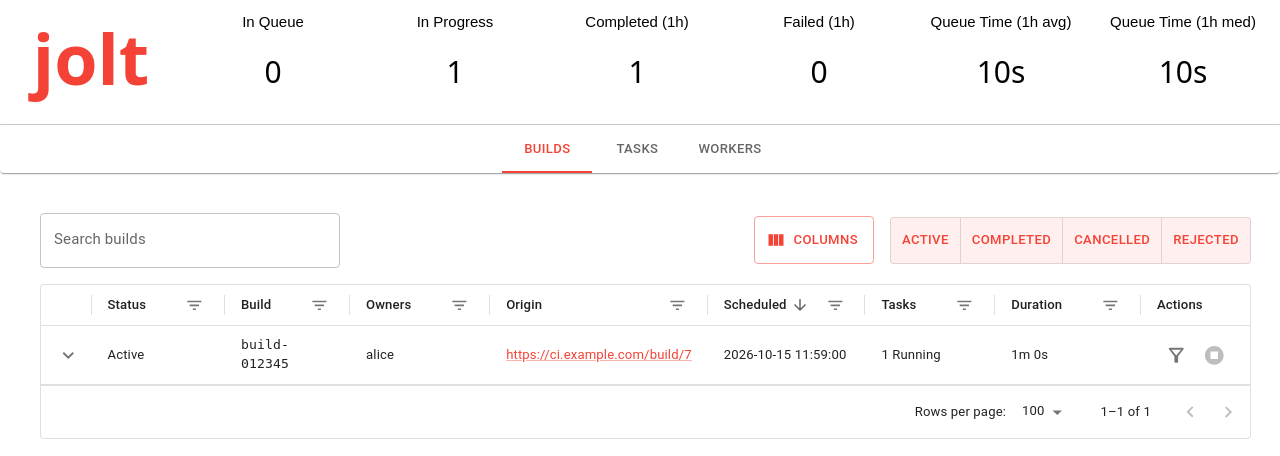
Test: builds can only be stopped when signed in
Step 1. Click the tab "Builds" → (547, 149), box left=502, top=125, right=592, bottom=173
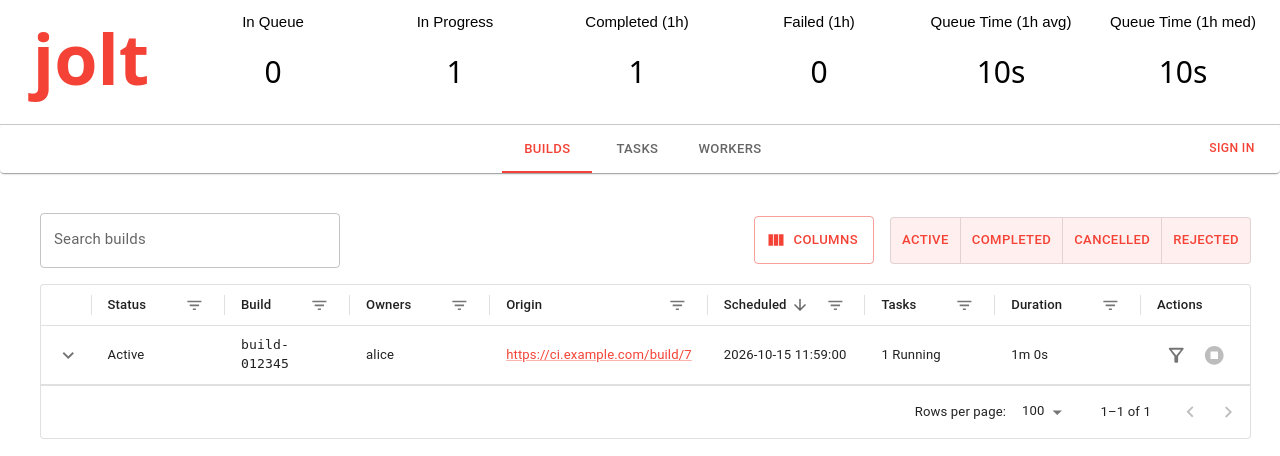
Expected: the button named "Stop build" is disabled, left=1195, top=336, right=1234, bottom=374
Now the button "Sign in" is shown, box left=1200, top=134, right=1264, bottom=164
